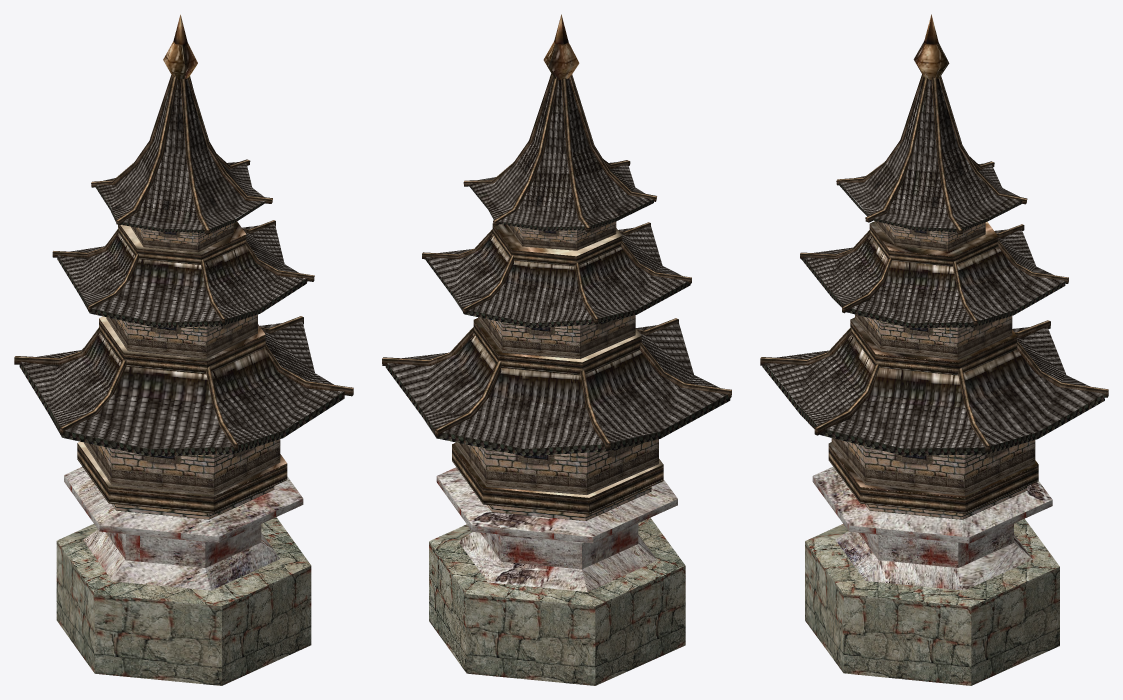
3 renders of one model, left to right at view 1: azimuth 30°, elevation 25°; view 2: azimuth 150°, elevation 25°; view 3: azimuth 270°, elevation 25°, orthographic.
Parts seen in each view (by area): view 1: ta; view 2: ta; view 3: ta.
Boxes of the visible parts, x1=… form: ta: x1=14, y1=14, x2=353, y2=685; ta: x1=382, y1=14, x2=731, y2=685; ta: x1=760, y1=14, x2=1108, y2=685.
Size of the model in its own units: 252 by 504 by 258.
